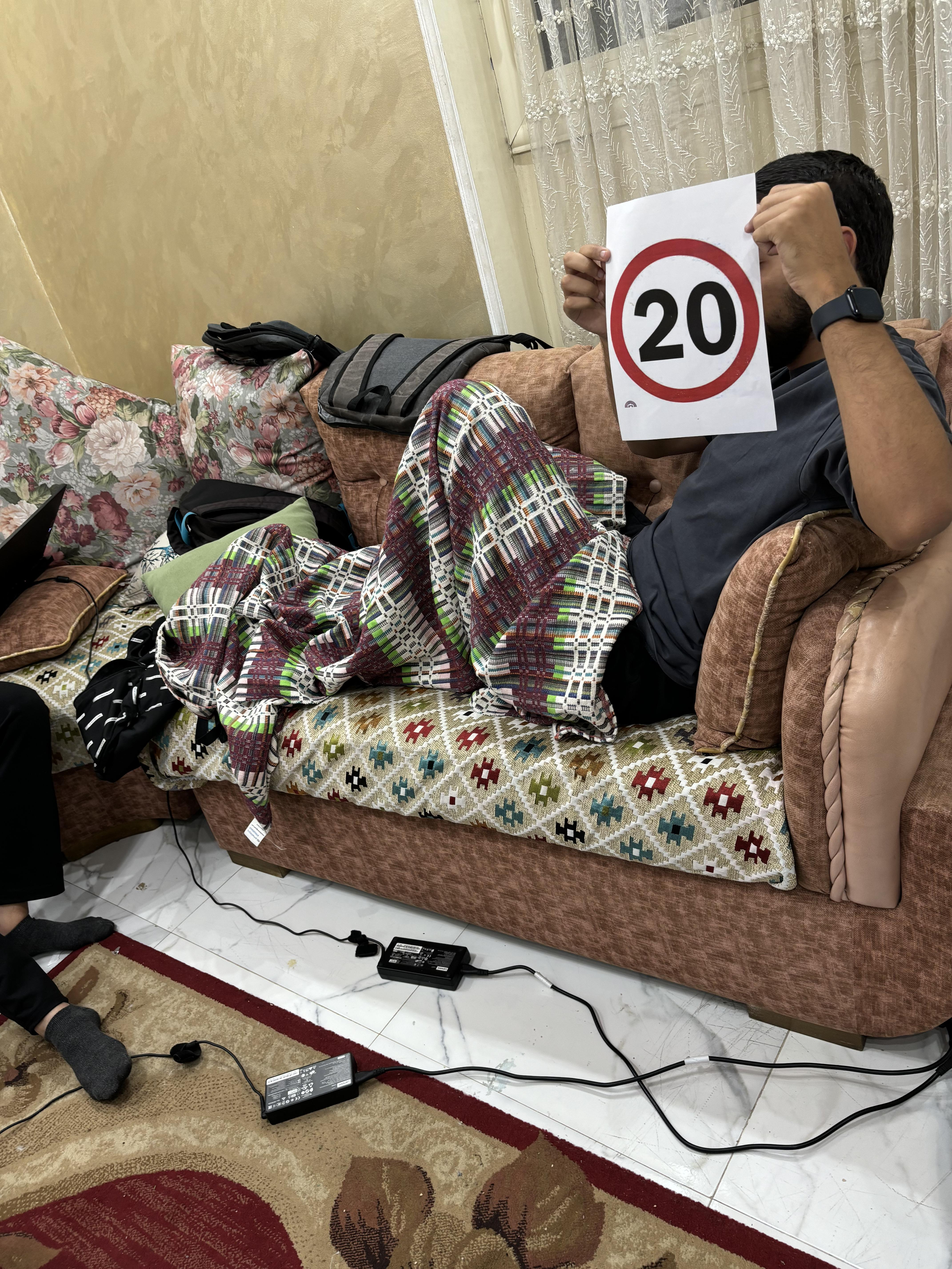20-Speed: (607, 231, 767, 404)
